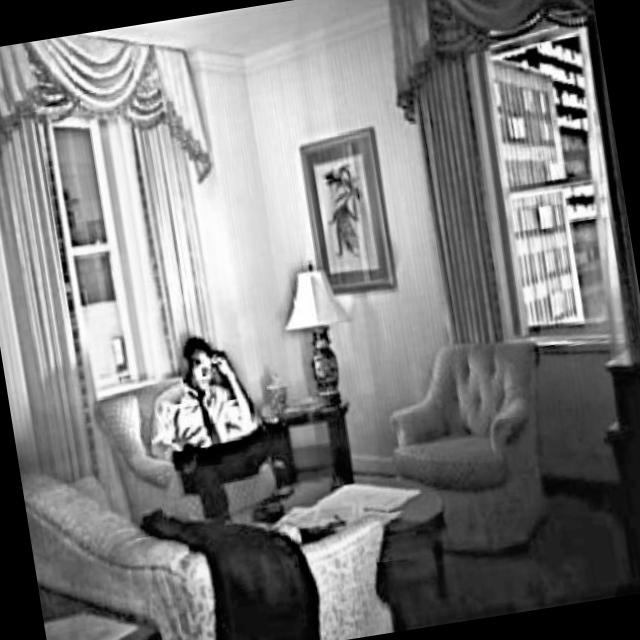Person: (131, 322, 284, 532)
